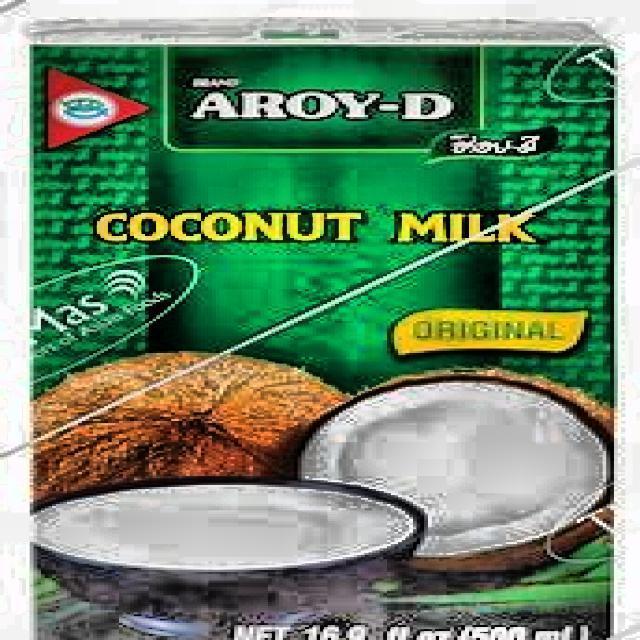cardboard: (26, 15, 618, 638)
